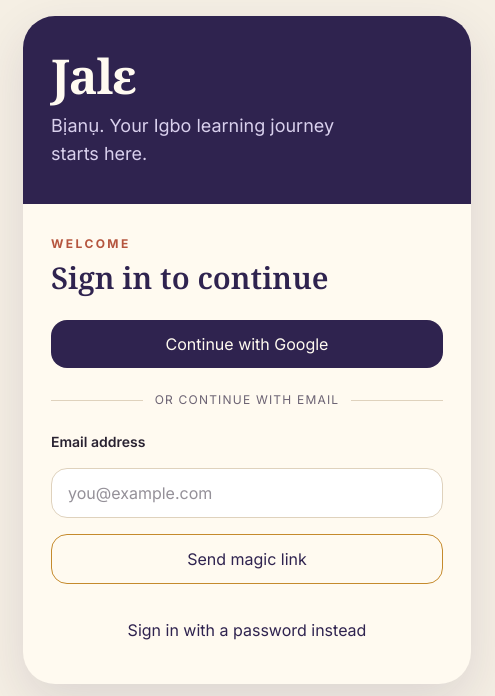
SignIn › shows a check-your-email state after sending a magic link
Type "ada@example.com" into the field labelled "Email address". click: (247, 493)
box: top-left (51, 468), bottom-right (443, 518)
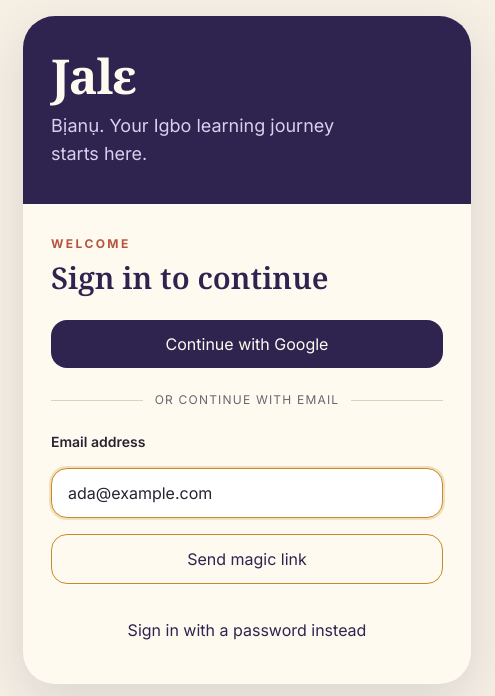
Click the button "Send magic link". click: (247, 559)
box: top-left (51, 534), bottom-right (443, 584)
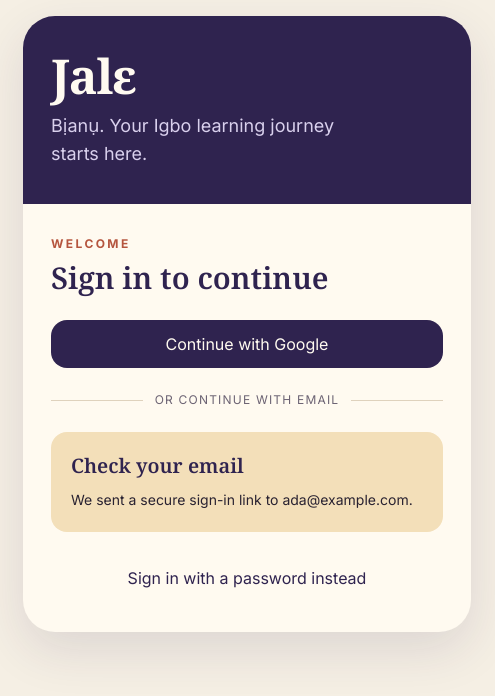
Expected: the heading "Check your email" is shown, top-left (71, 452), bottom-right (244, 479)
